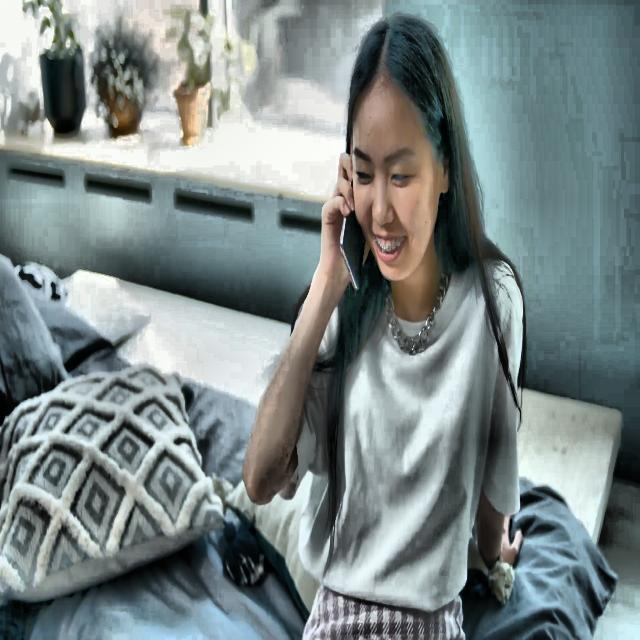Phone: (340, 203, 366, 291)
